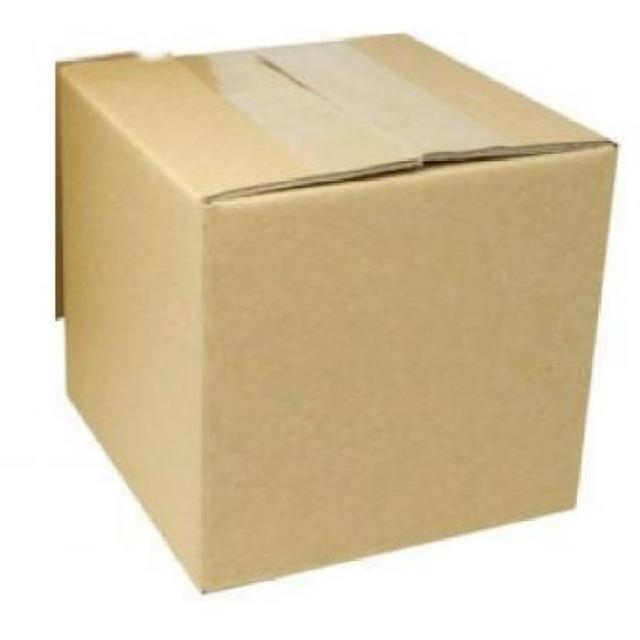box: (44, 27, 629, 604)
